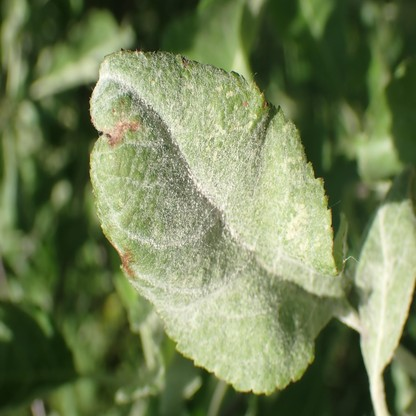powder: (89, 47, 336, 392), (357, 204, 410, 367)
